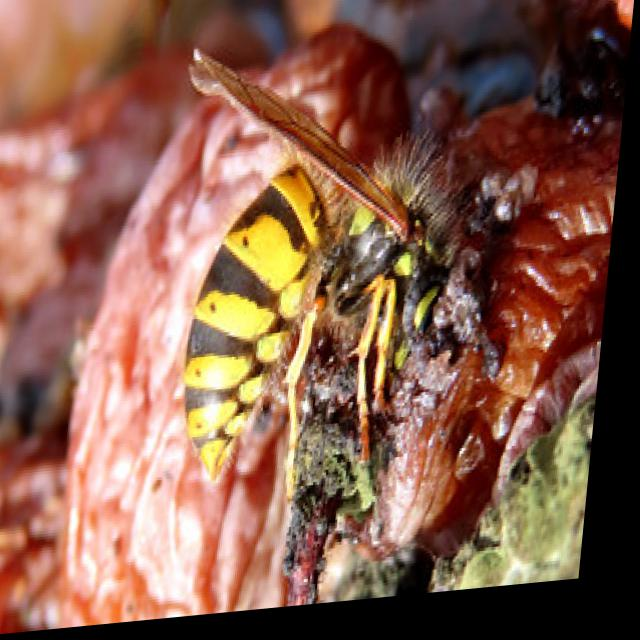Guepe: (136, 14, 493, 553)
